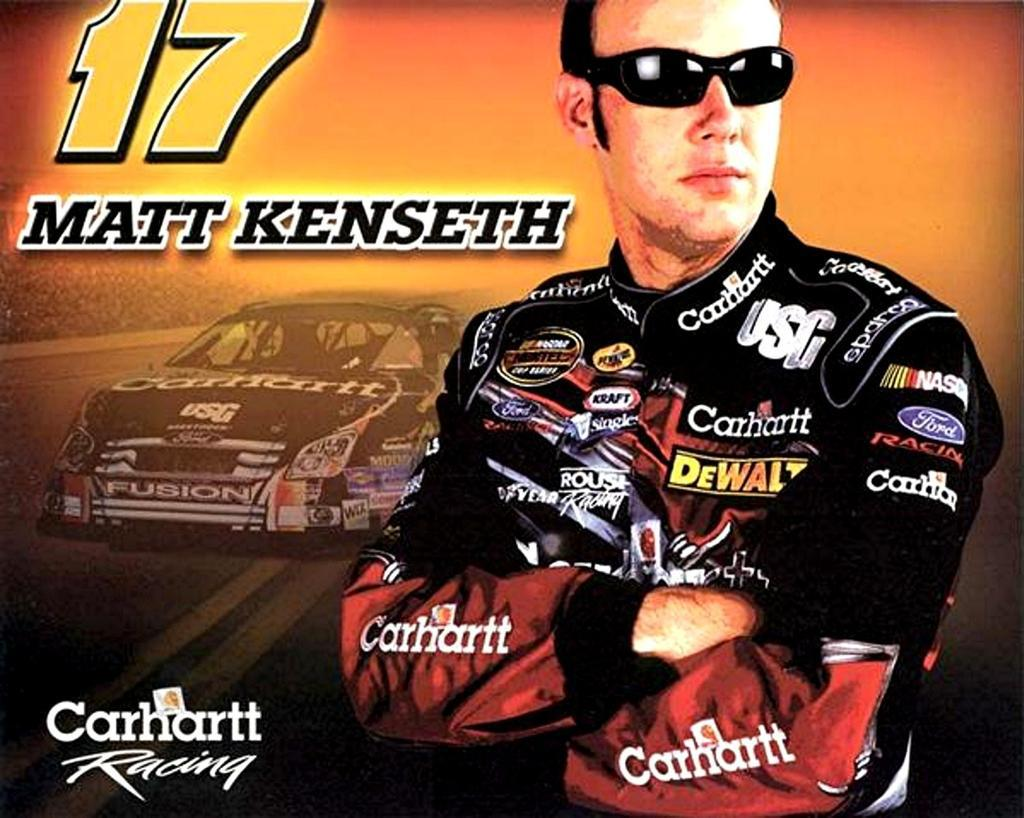face: (591, 5, 781, 241)
